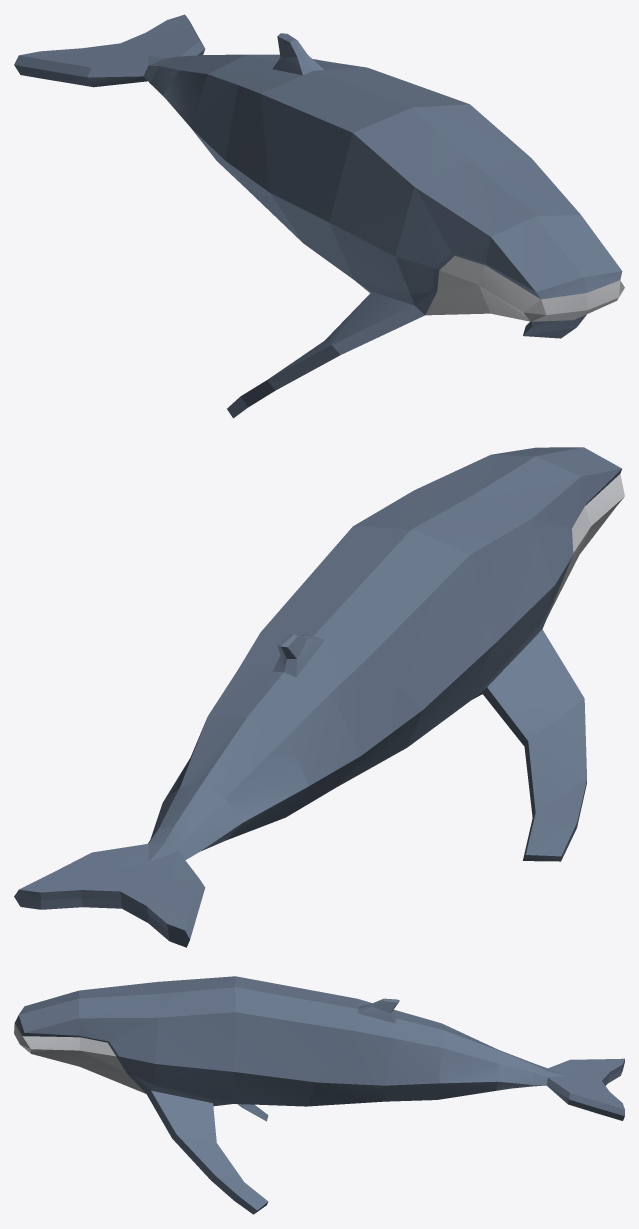
Rendered from whale.glb.
The picture shows the model from 3 angles, top to bottom: view 1: azimuth 30°, elevation 25°; view 2: azimuth 150°, elevation 25°; view 3: azimuth 270°, elevation 25°; orthographic projection. The views are drawn at different scales.
Visible parts, largest first — view 1: whale; view 2: whale; view 3: whale.
Boxes of the visible parts, <box> form: whale: <box>14,14,624,418</box>; whale: <box>14,447,624,947</box>; whale: <box>14,976,624,1214</box>.
Size of the model in its own units: 0.5804 by 0.4641 by 1.45.
